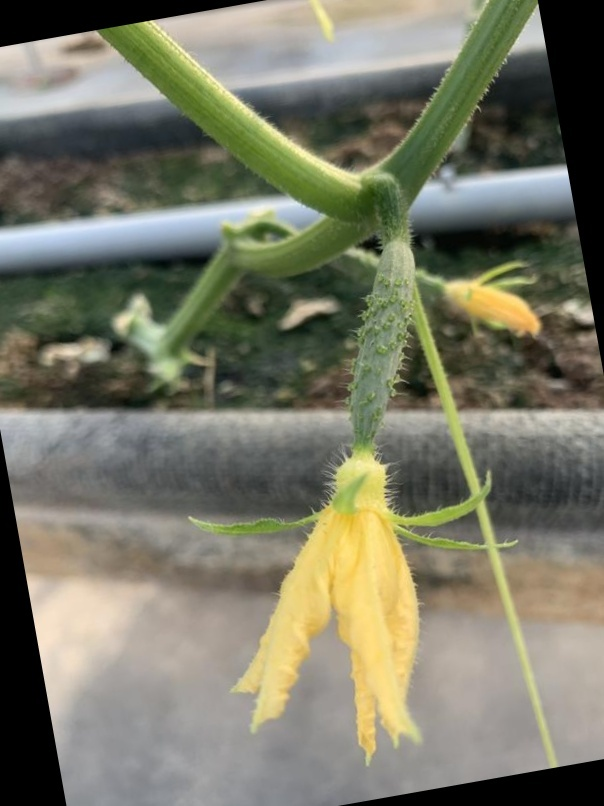bear: (195, 228, 461, 757)
